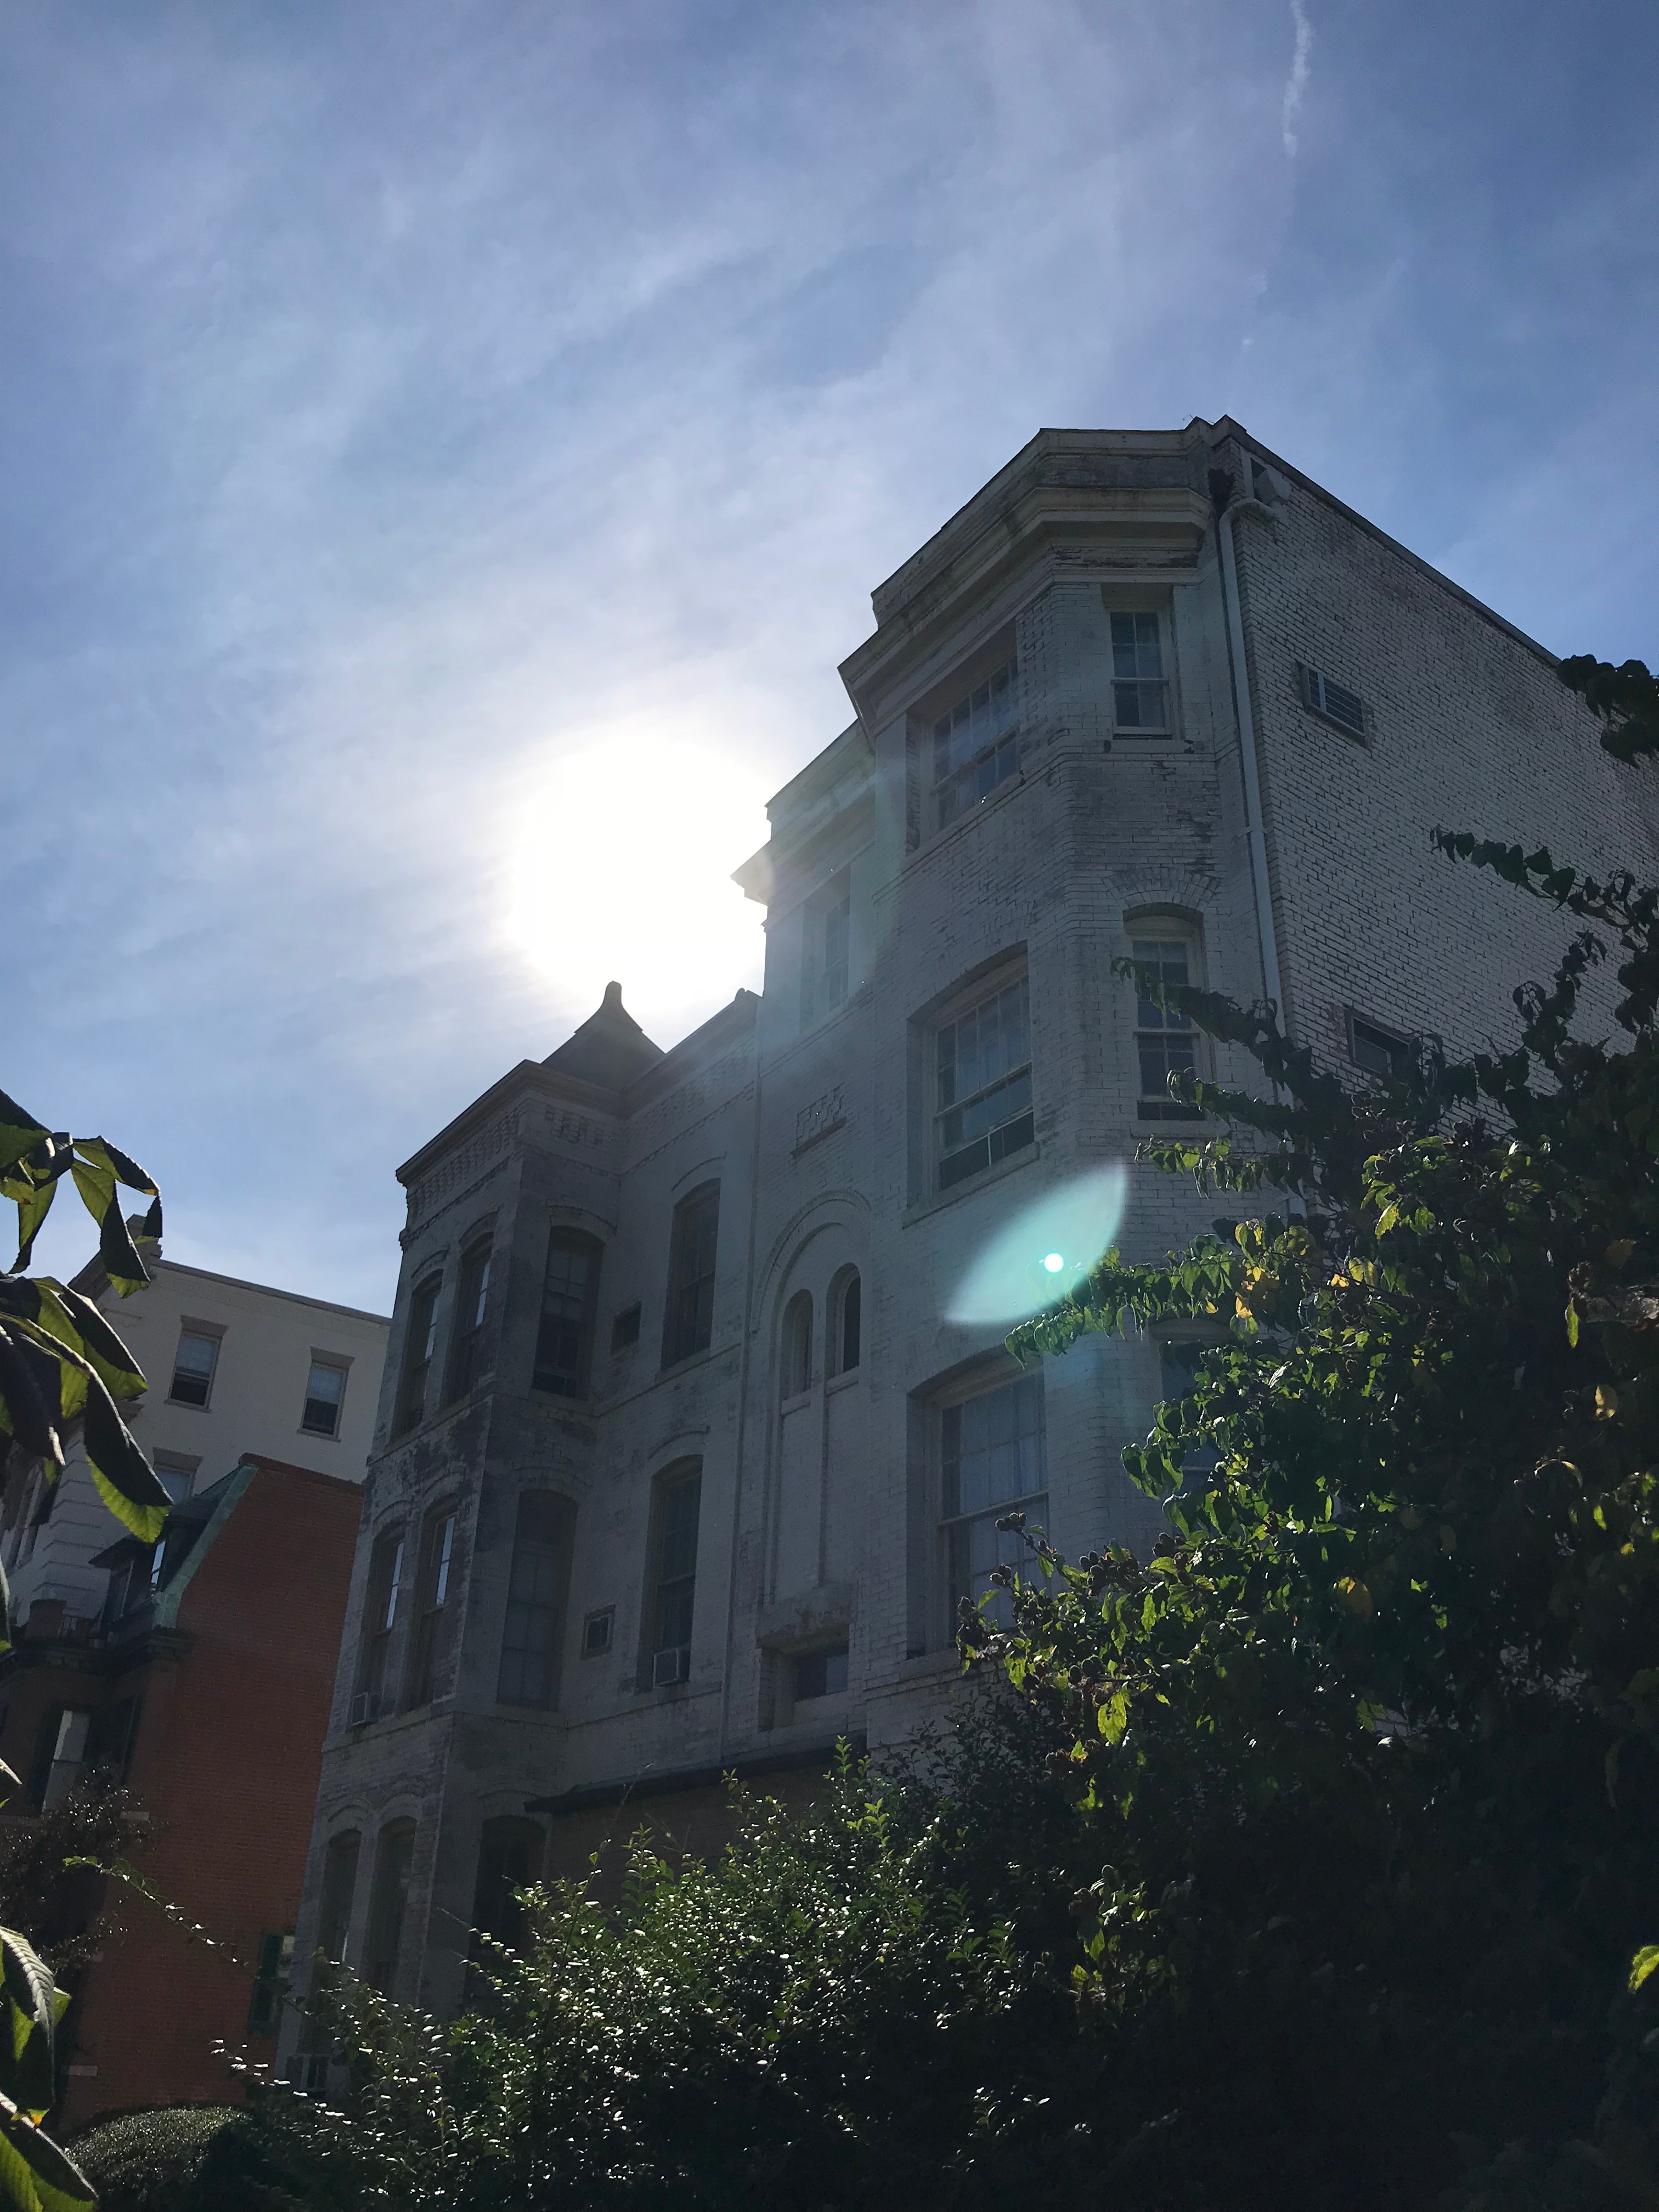flare: (1042, 1252, 1066, 1275)
